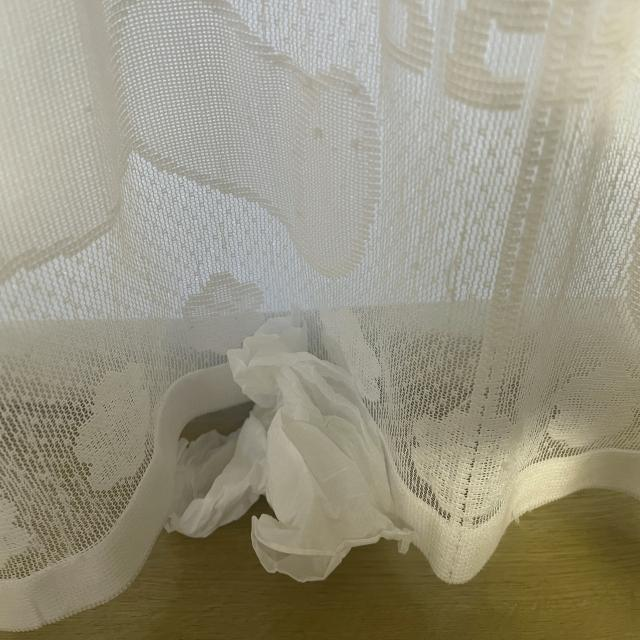Paper: (133, 392, 298, 546)
